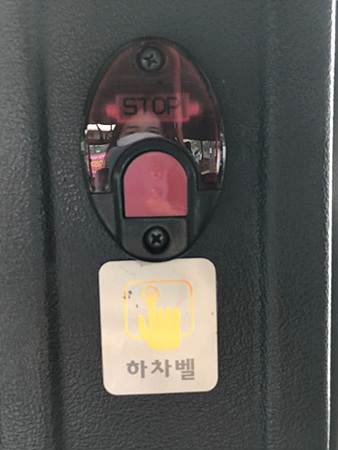bell: (82, 36, 227, 263)
